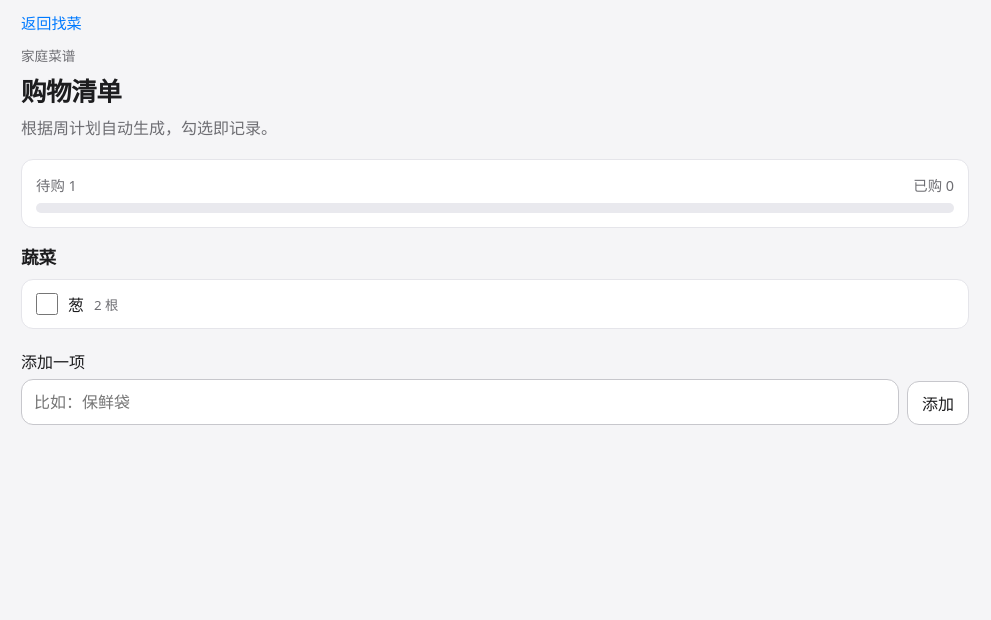
Test: ShoppingList › marks a generated item bought and saves a manual item
Click the checkbox labelled "葱 2 根": click(47, 304) [36,293,58,315]
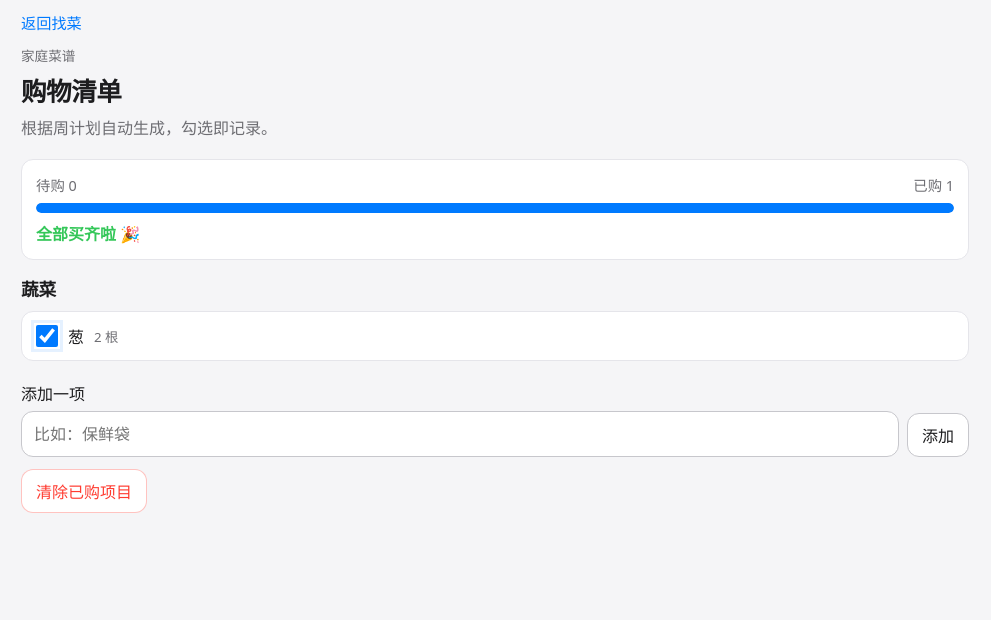
In the field labelled "添加一项": (460, 434) [21,411,899,457], type "保鲜袋"
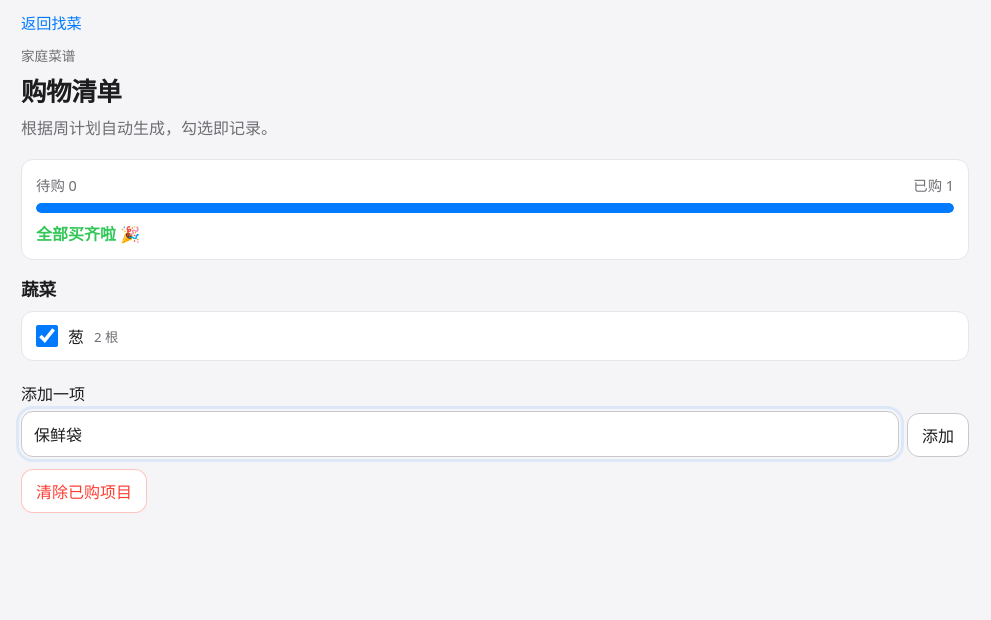
Click the button "添加": click(938, 435) [907,413,969,457]
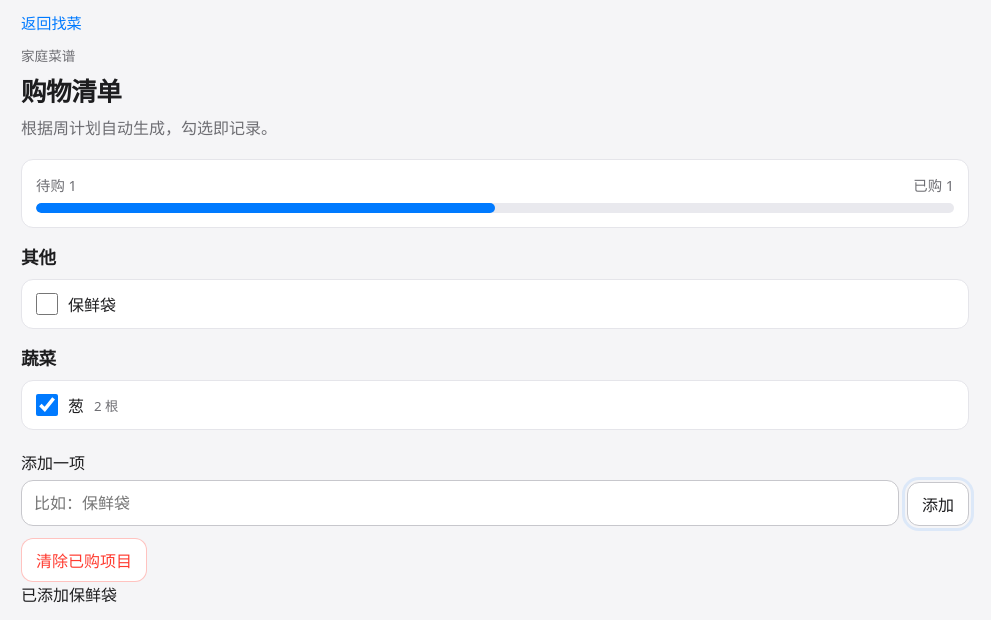
Expected: the checkbox labelled "葱 2 根" is checked, [36,394,58,416]
Expected: the text "保鲜袋" is shown, [68,292,116,316]
